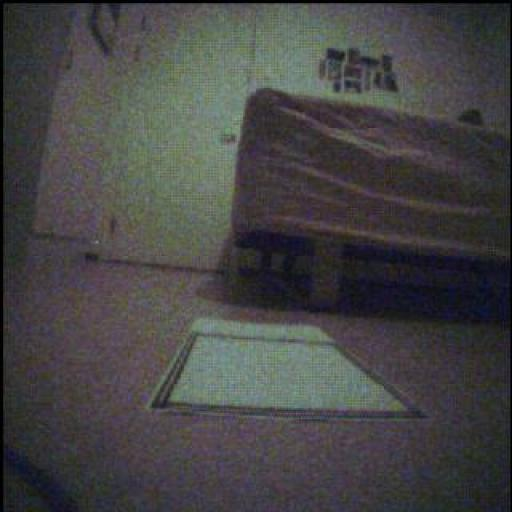pad: (150, 319, 425, 422)
